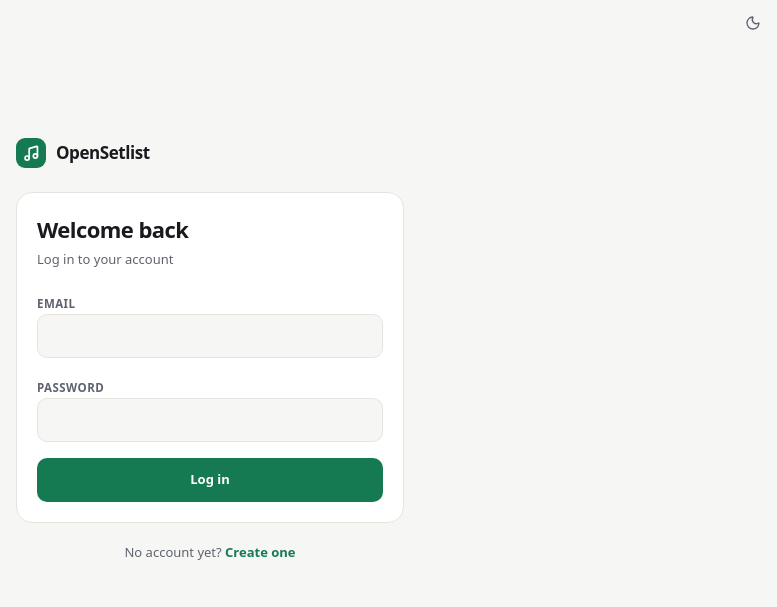
Test case: login flow › shows the API error message on a failed login
Type "elod@example.com" into the field labelled "Email" at {"x": 210, "y": 336}, box 37,314 -> 383,358
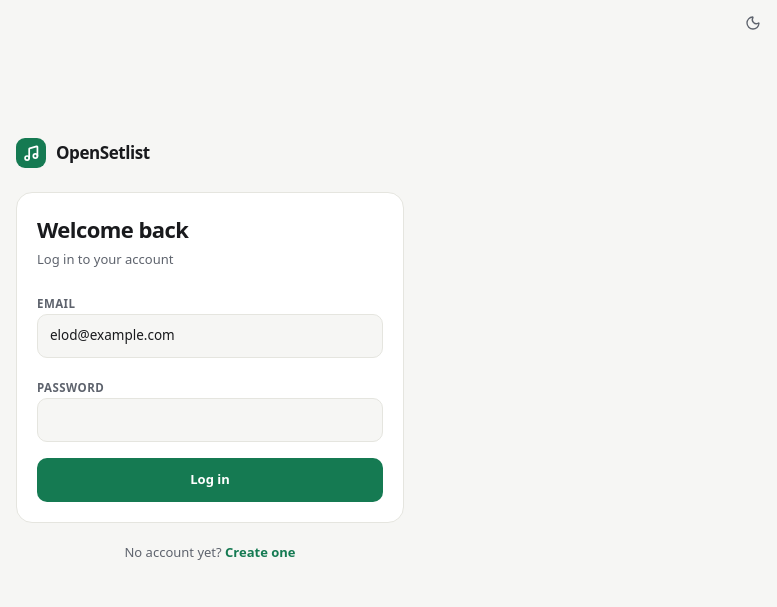
Type "wrongwrongwrong" into the password field labelled "Password" at {"x": 210, "y": 420}, box 37,398 -> 383,442
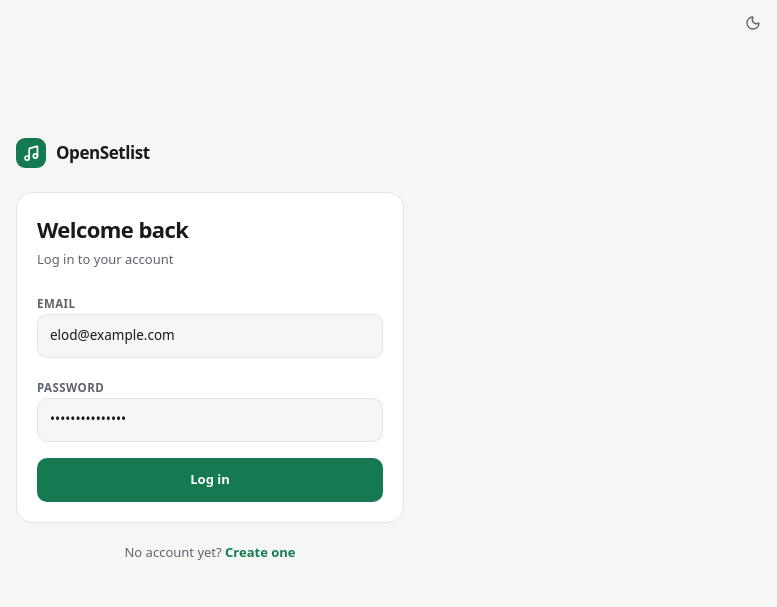
Click the button "Log in" at {"x": 210, "y": 480}, box 37,458 -> 383,502
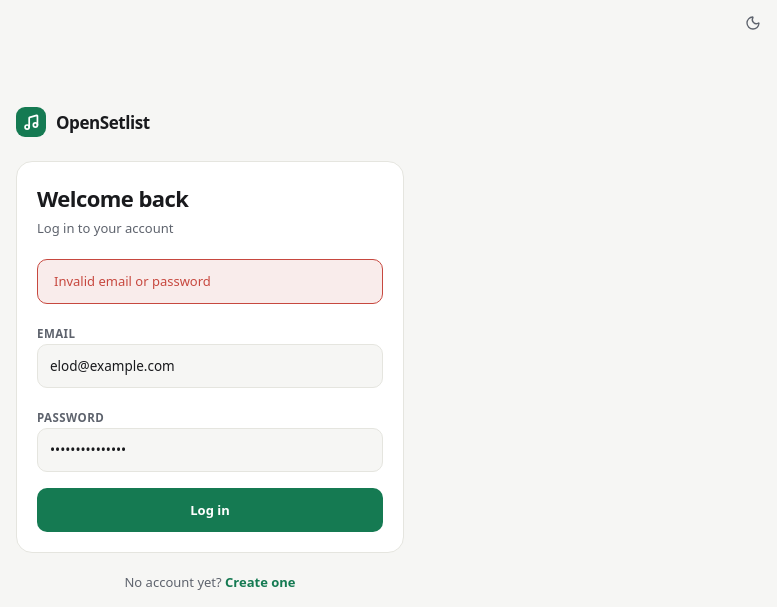
Expected: the message reads "Invalid email or password", 54,272 -> 211,290
